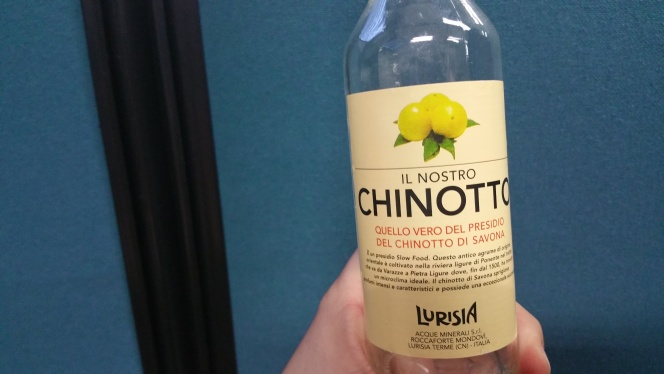bottle: (333, 1, 532, 374)
